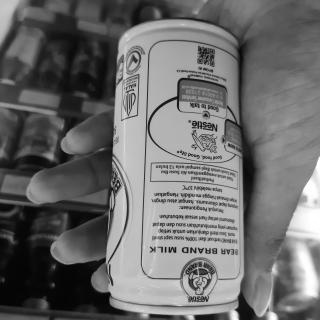alumunium_can: (110, 8, 250, 320)
